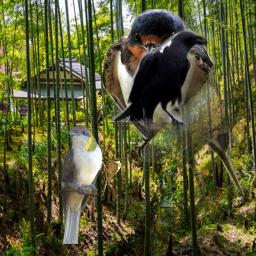Crow: (109, 28, 210, 143)
Cuckoo: (59, 125, 102, 244), (101, 158, 122, 197)
Swallow: (102, 9, 244, 196)
